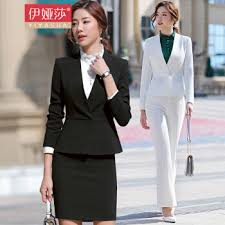F_tailored skirt: (51, 150, 128, 225)
S_business casual jacket: (34, 45, 134, 167)
